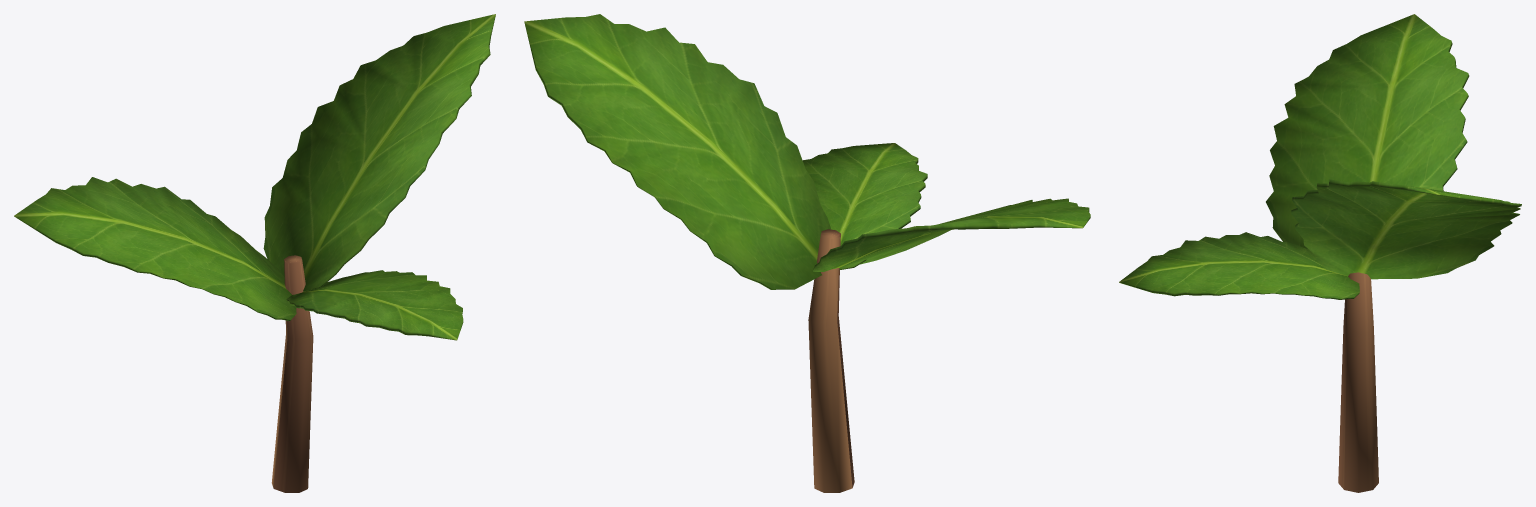
File: NP_Raspberry_Sprout.fbx
The picture shows the model from 3 angles, left to right: view 1: azimuth 30°, elevation 25°; view 2: azimuth 150°, elevation 25°; view 3: azimuth 270°, elevation 25°; orthographic projection. The views are drawn at different scales.
Parts seen in each view (by area): view 1: NP_Raspberry_Sprout; view 2: NP_Raspberry_Sprout; view 3: NP_Raspberry_Sprout.
Boxes of the visible parts, x1=… form: NP_Raspberry_Sprout: x1=14, y1=14, x2=495, y2=492; NP_Raspberry_Sprout: x1=524, y1=14, x2=1090, y2=492; NP_Raspberry_Sprout: x1=1119, y1=14, x2=1521, y2=492.
Bounding box in the file's own units: 30.17 × 22.65 × 19.78.
